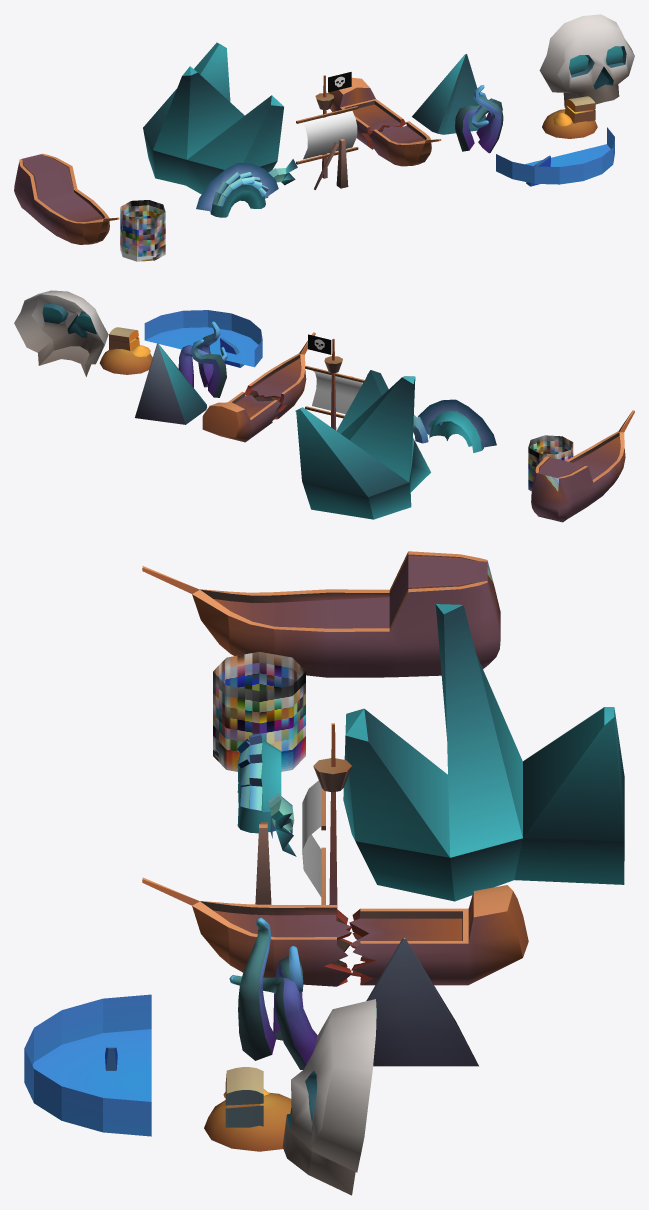
The model's file is assets_t3_a3.fbx.
The picture shows the model from 3 angles, top to bottom: view 1: azimuth 30°, elevation 25°; view 2: azimuth 150°, elevation 25°; view 3: azimuth 270°, elevation 25°; orthographic projection. The views are drawn at different scales.
Visible parts, largest first — view 1: Cube, skull, boat.002, monster, ground_t2_era2, rock, godray, boat, kraken_3, boat.001, pole2.001, island (+3 smaller); view 2: Cube, boat.002, skull, ground_t2_era2, rock, monster, boat, boat.001, kraken_3, island, pole2.001, godray (+2 smaller); view 3: Cube, boat.002, ground_t2_era2, skull, boat, boat.001, godray, rock, kraken_3, island, monster, pole2 (+2 smaller).
Part boxes in pixels (<box>): Cube: <box>143,42,283,194</box>; skull: <box>539,14,634,107</box>; boat.002: <box>14,153,119,244</box>; monster: <box>196,159,297,217</box>; ground_t2_era2: <box>496,127,614,184</box>; rock: <box>412,54,485,134</box>; godray: <box>120,200,165,261</box>; boat: <box>328,77,406,149</box>; kraken_3: <box>455,85,503,153</box>; boat.001: <box>369,121,441,166</box>; pole2.001: <box>303,111,357,159</box>; island: <box>542,96,597,138</box>; Cube: <box>295,370,430,519</box>; boat.002: <box>531,410,634,522</box>; skull: <box>14,290,108,376</box>; ground_t2_era2: <box>144,310,262,367</box>; rock: <box>135,343,206,424</box>; monster: <box>413,399,496,452</box>; boat: <box>202,392,280,442</box>; boat.001: <box>245,332,315,419</box>; kraken_3: <box>178,321,227,397</box>; island: <box>99,327,152,374</box>; pole2.001: <box>312,370,362,414</box>; godray: <box>528,435,573,491</box>; Cube: <box>343,604,624,901</box>; boat.002: <box>142,551,500,677</box>; ground_t2_era2: <box>24,994,151,1136</box>; skull: <box>282,999,376,1195</box>; boat: <box>349,885,528,985</box>; boat.001: <box>142,877,351,986</box>; godray: <box>213,652,305,771</box>; rock: <box>366,938,478,1066</box>; kraken_3: <box>229,917,317,1069</box>; island: <box>204,1067,291,1151</box>; monster: <box>237,733,296,856</box>; pole2: <box>313,723,351,908</box>.
Size of the model in its own units: 863 by 173 by 382.
